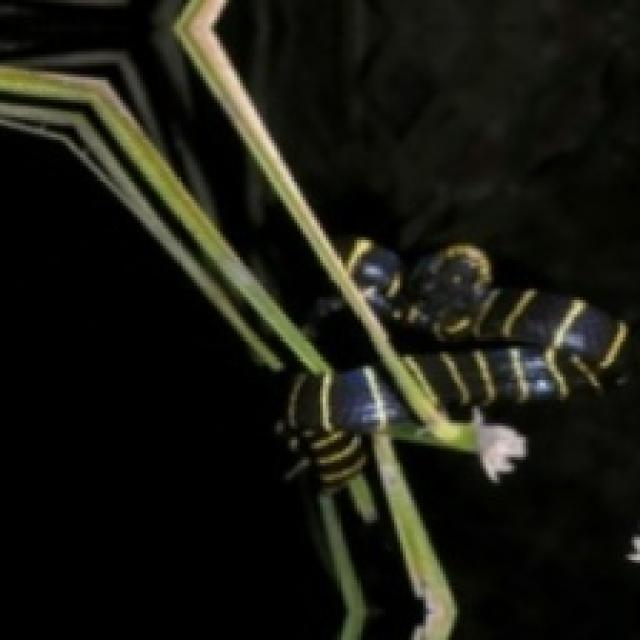mangrove cat snake: (217, 0, 637, 637), (0, 129, 340, 637), (0, 0, 334, 326), (346, 237, 626, 480), (280, 300, 420, 489), (334, 486, 420, 637)
